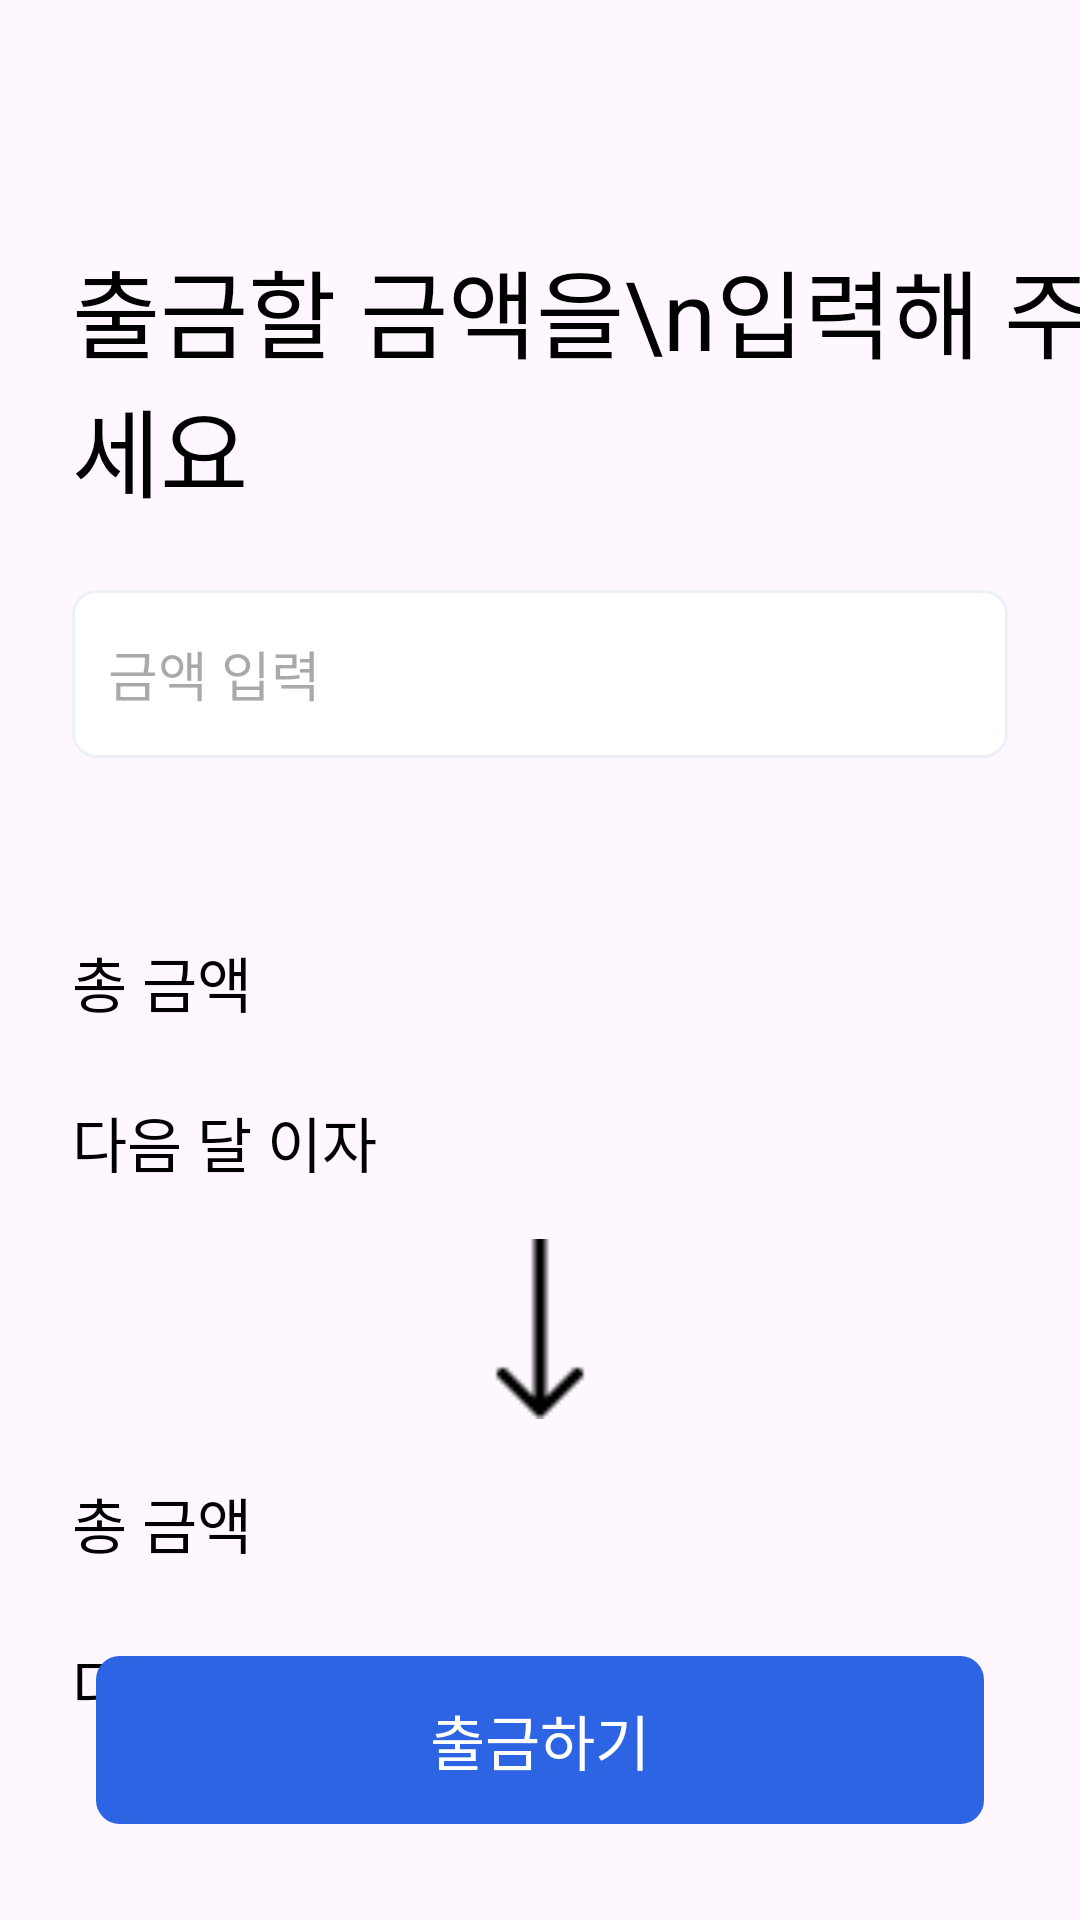

Where icons sit on this 1080px x 1920px app screen, as (x1, y1, x2, y2):
arrow downward: (495, 1239, 585, 1419)
